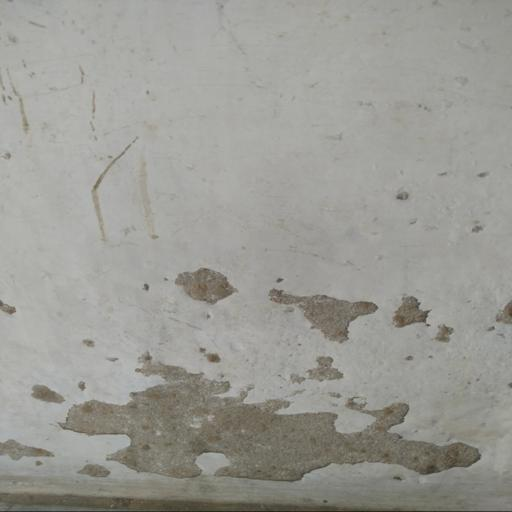peeling: (0, 252, 512, 512)
